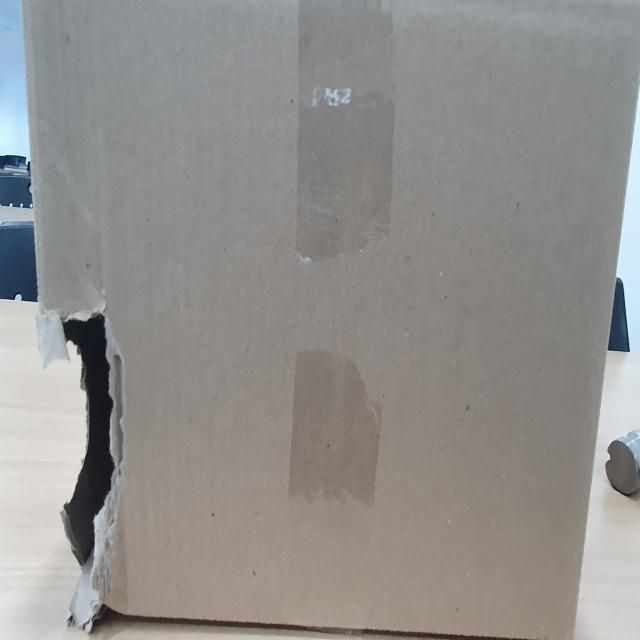hole: (37, 300, 137, 620)
